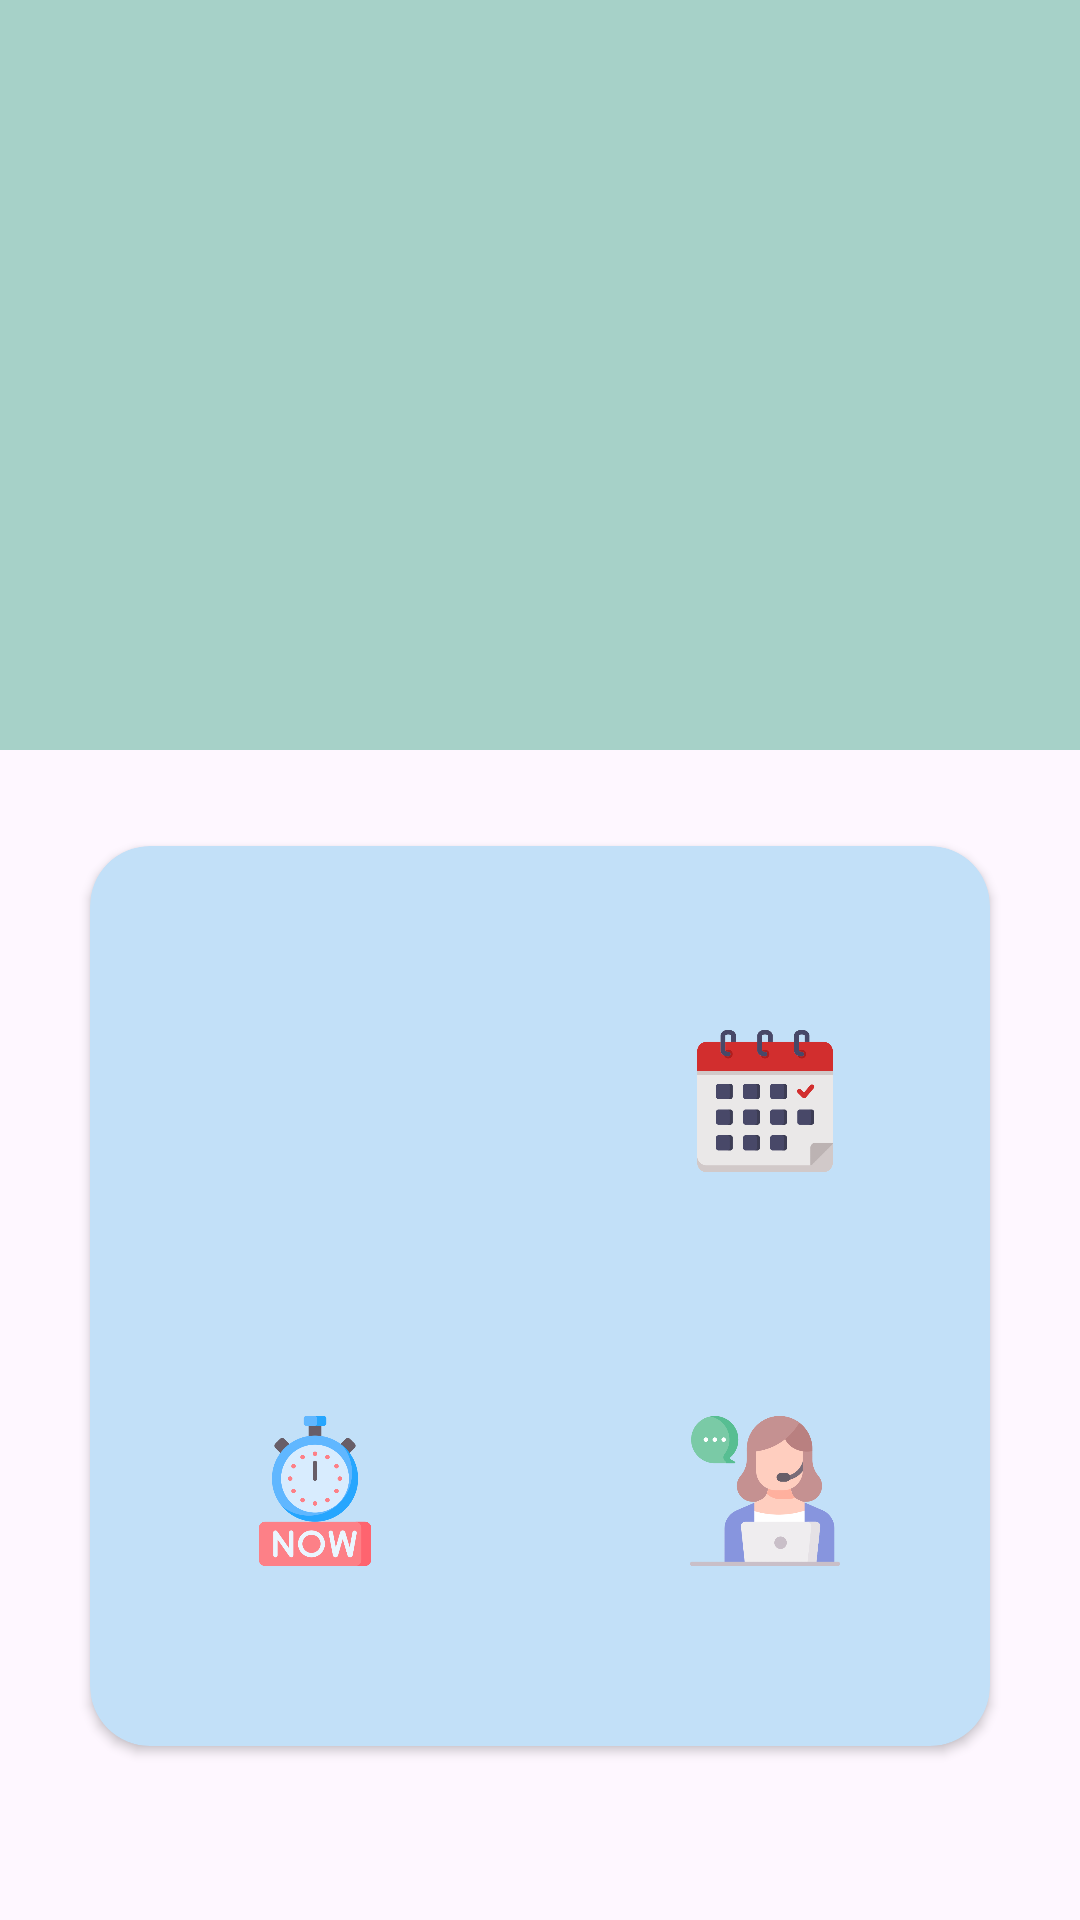

Icon click points for this 1080×1920 phone screenshot, format (x=x, y=y):
mini calendar: (x=765, y=1101)
mini service: (x=765, y=1491)
